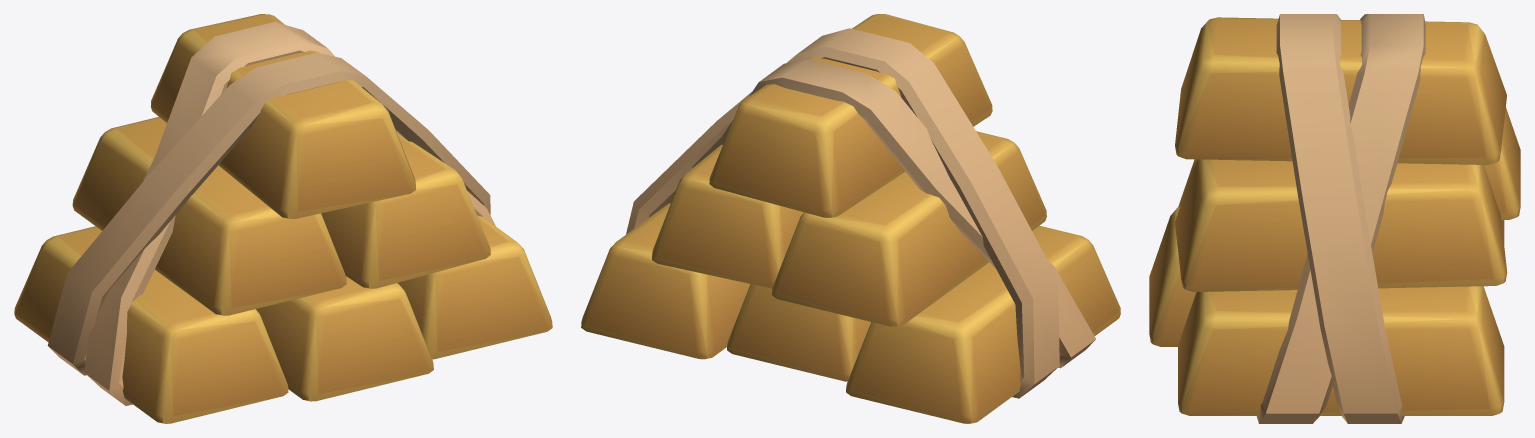
File: kk_gold_bars.glb
3 renders of one model, left to right at view 1: azimuth 30°, elevation 25°; view 2: azimuth 150°, elevation 25°; view 3: azimuth 270°, elevation 25°, orthographic. The views are drawn at different scales.
Visible parts, largest first — view 1: Gold_Bars; view 2: Gold_Bars; view 3: Gold_Bars.
Part boxes in pixels (x1,y1,x2,y2): Gold_Bars: [14, 14, 552, 423]; Gold_Bars: [581, 14, 1120, 423]; Gold_Bars: [1149, 14, 1520, 423].
Bounding box in the file's own units: 0.35 × 0.2179 × 0.2512.
Materials: 1 (1 with a texture image).
